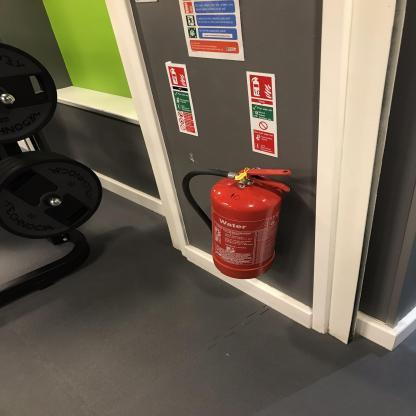Fire Extinguisher: (182, 151, 299, 289)
